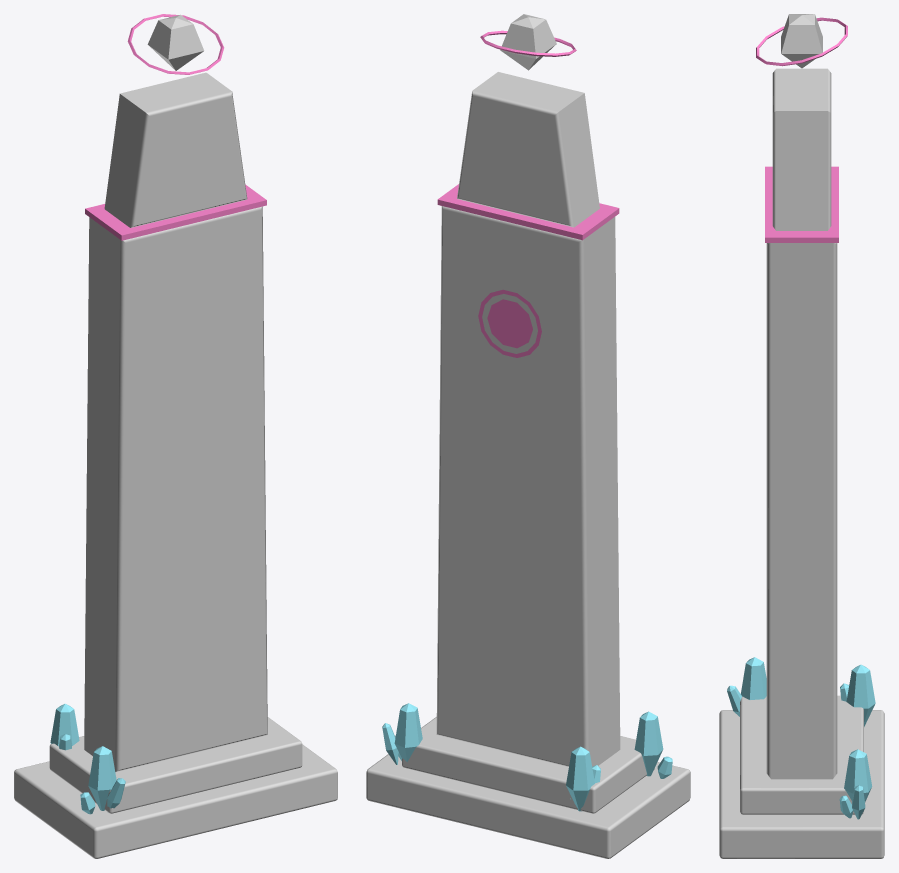
Rendered from AlienMonolith.glb.
3 renders of one model, left to right at view 1: azimuth 30°, elevation 25°; view 2: azimuth 150°, elevation 25°; view 3: azimuth 270°, elevation 25°, orthographic.
Visible parts, largest first — view 1: Body, Glow, Crystal; view 2: Body, Glow, Crystal; view 3: Body, Crystal, Glow.
Boxes of the visible parts, x1=… form: Body: x1=14, y1=14, x2=337, y2=858; Glow: x1=85, y1=14, x2=266, y2=240; Crystal: x1=50, y1=703, x2=125, y2=814; Body: x1=366, y1=14, x2=690, y2=858; Glow: x1=437, y1=30, x2=619, y2=357; Crystal: x1=382, y1=703, x2=672, y2=811; Body: x1=719, y1=14, x2=884, y2=858; Crystal: x1=727, y1=657, x2=875, y2=819; Glow: x1=756, y1=17, x2=847, y2=242.
Size of the model in its own units: 9.6 by 29.36 by 5.6.
